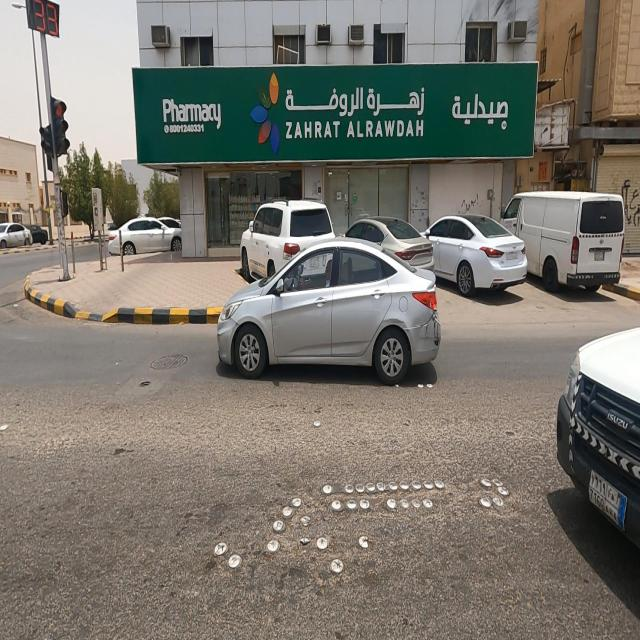Graffiti: (623, 179, 640, 228), (458, 192, 482, 216)
